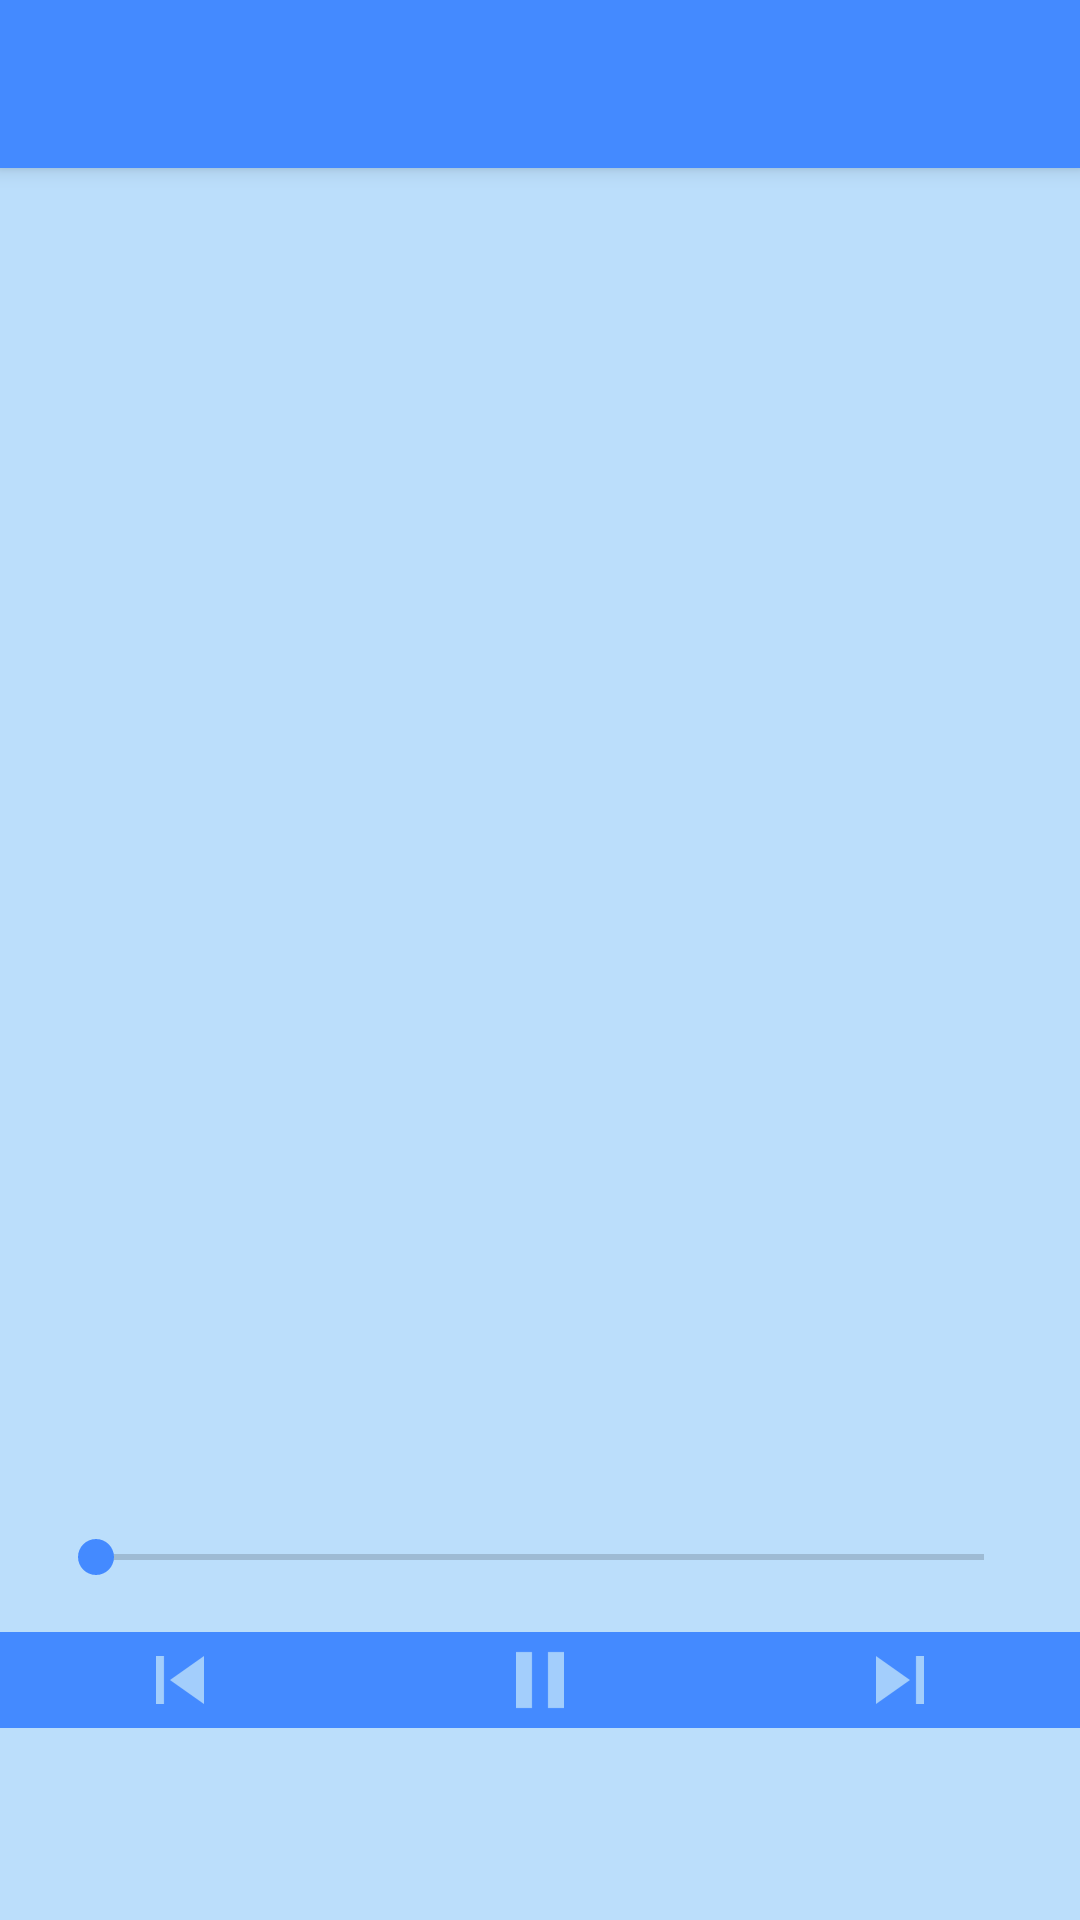

Point at icon controls on the screen. Image size 1080×1920, points as [x,y].
next: [900,1680]
pause: [540,1680]
previous: [180,1680]
